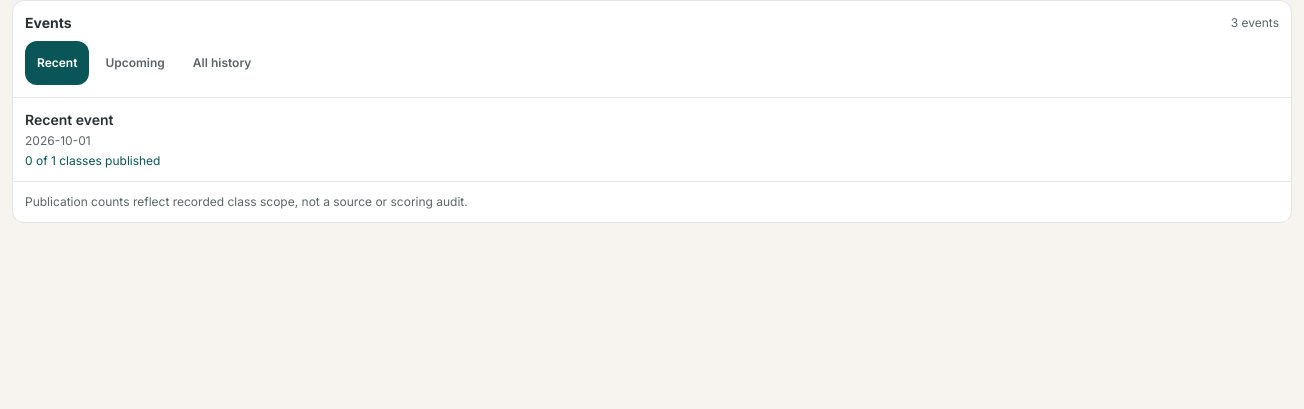
Event index › separates upcoming from recent work without assigning a completion percentage
Expected: the button "Recent event 2026-10-01 0 of 1 classes published" is shown, [13,98,1291,181]
Expected: the button "Future event" is not shown
Click the button "Upcoming" at (135, 63), box [93,41,177,85]
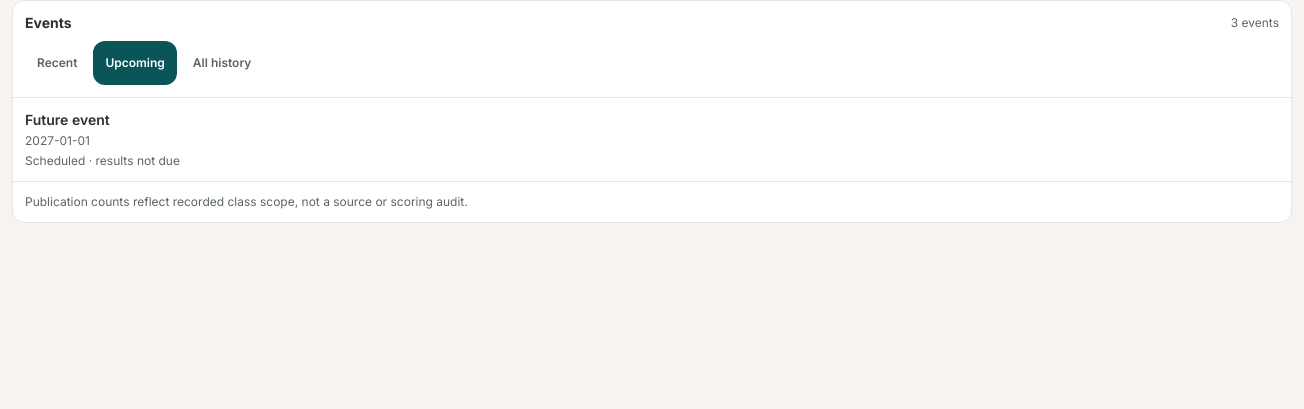
Now the text "Scheduled · results not due" is shown, box [25,153,180,168]
Click the button "All history" at (222, 63), box [181,41,264,85]
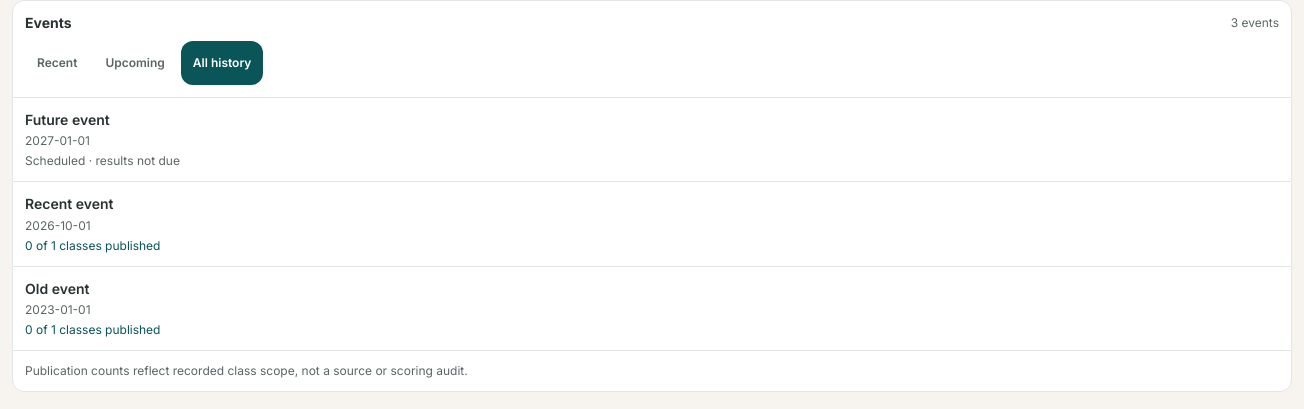
Now the button "Old event 2023-01-01 0 of 1 classes published" is shown, box [13,266,1291,350]
